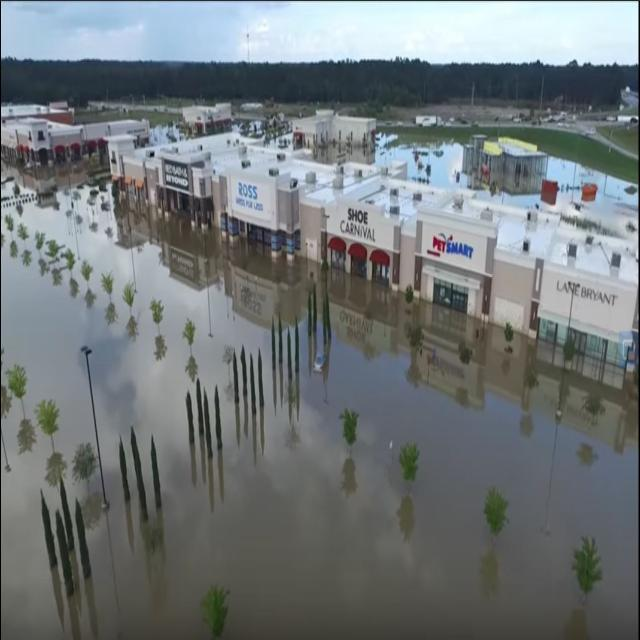flood: (0, 161, 639, 640), (378, 134, 468, 190), (552, 158, 638, 210), (491, 194, 540, 210)
house: (532, 228, 640, 335), (413, 196, 498, 316), (222, 165, 302, 258), (328, 205, 399, 292), (155, 144, 220, 229), (292, 108, 380, 162), (466, 134, 543, 190), (110, 133, 146, 195), (7, 122, 42, 174), (180, 105, 232, 130)
